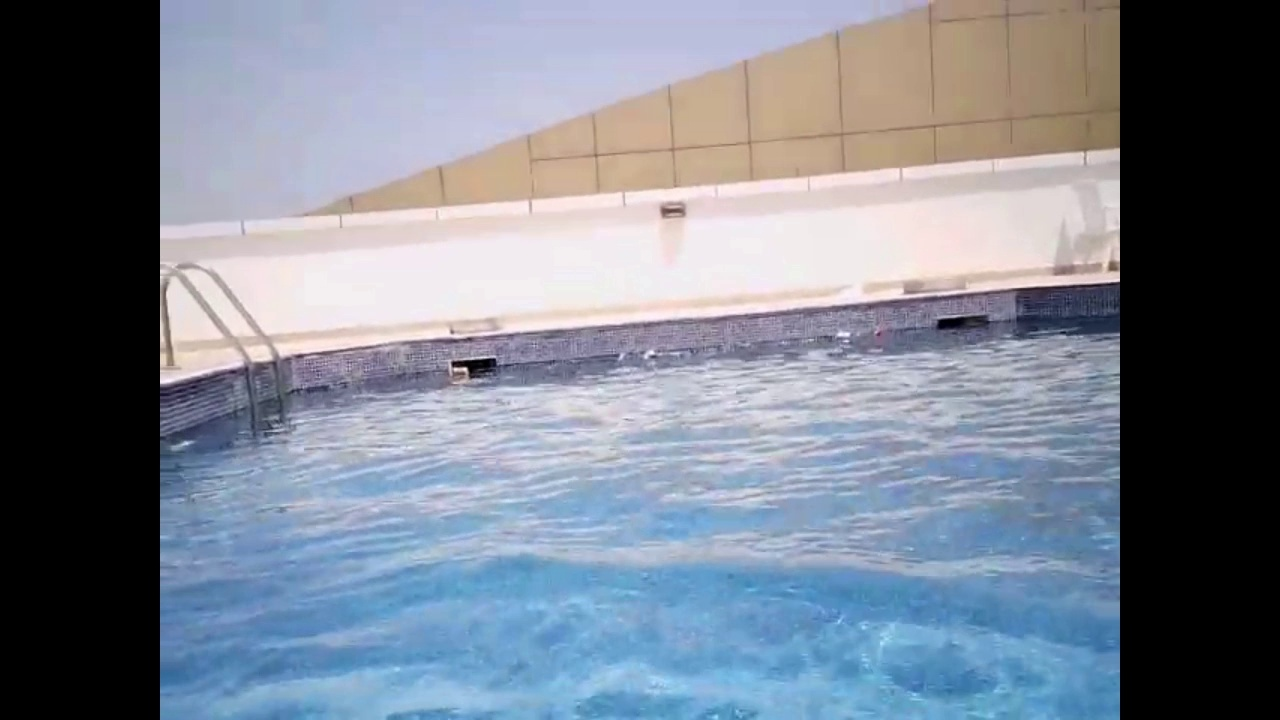debris: (444, 362, 475, 383), (828, 327, 856, 343), (865, 323, 886, 343), (636, 346, 659, 363), (609, 347, 628, 367)
